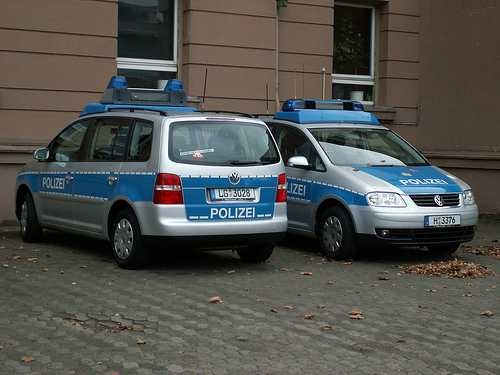Police Car: (17, 85, 284, 271), (244, 94, 494, 275)
